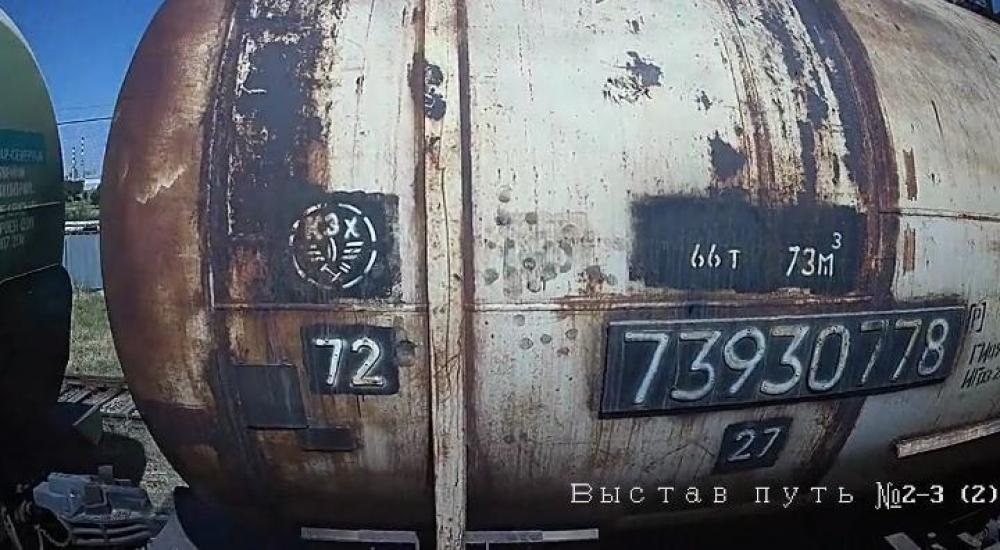Wagon-number: (620, 314, 960, 410)
